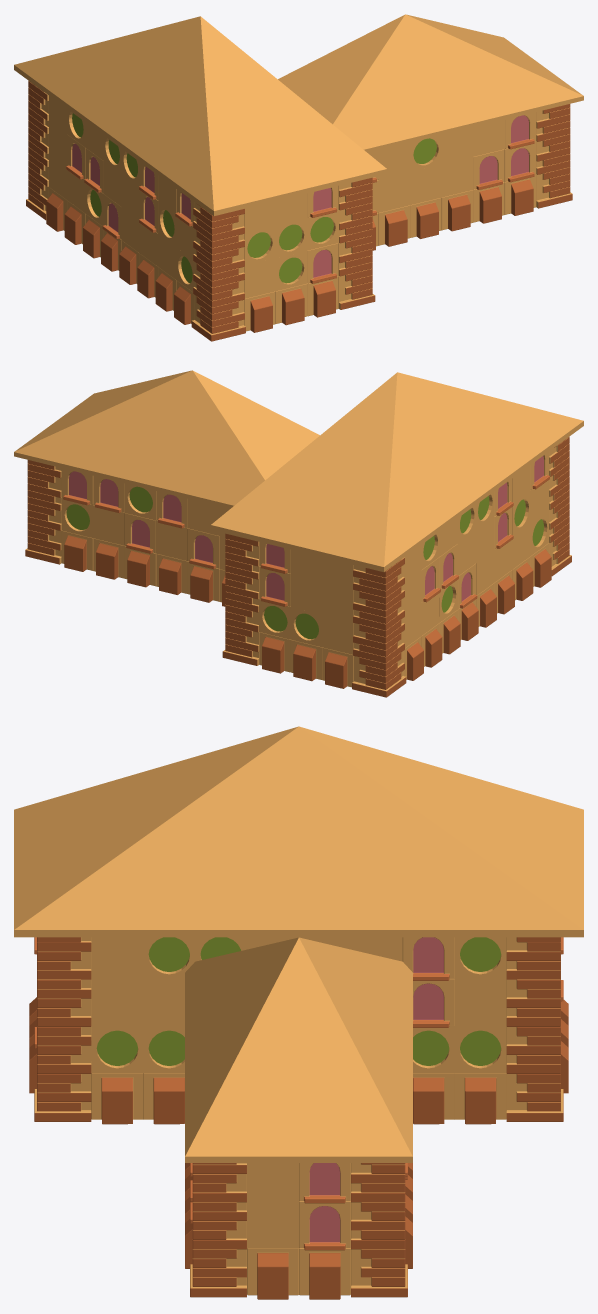
File: house v3.011.fbx
3 renders of one model, top to bottom at view 1: azimuth 30°, elevation 25°; view 2: azimuth 150°, elevation 25°; view 3: azimuth 270°, elevation 25°, orthographic. The views are drawn at different scales.
Parts seen in each view (by area): view 1: House; view 2: House; view 3: House.
Boxes of the visible parts, x1,y1,x2,y2 form: House: (14,14,583,341); House: (14,370,583,697); House: (14,726,583,1299).
Bounding box in the file's own units: 1364 × 720 × 1099.
